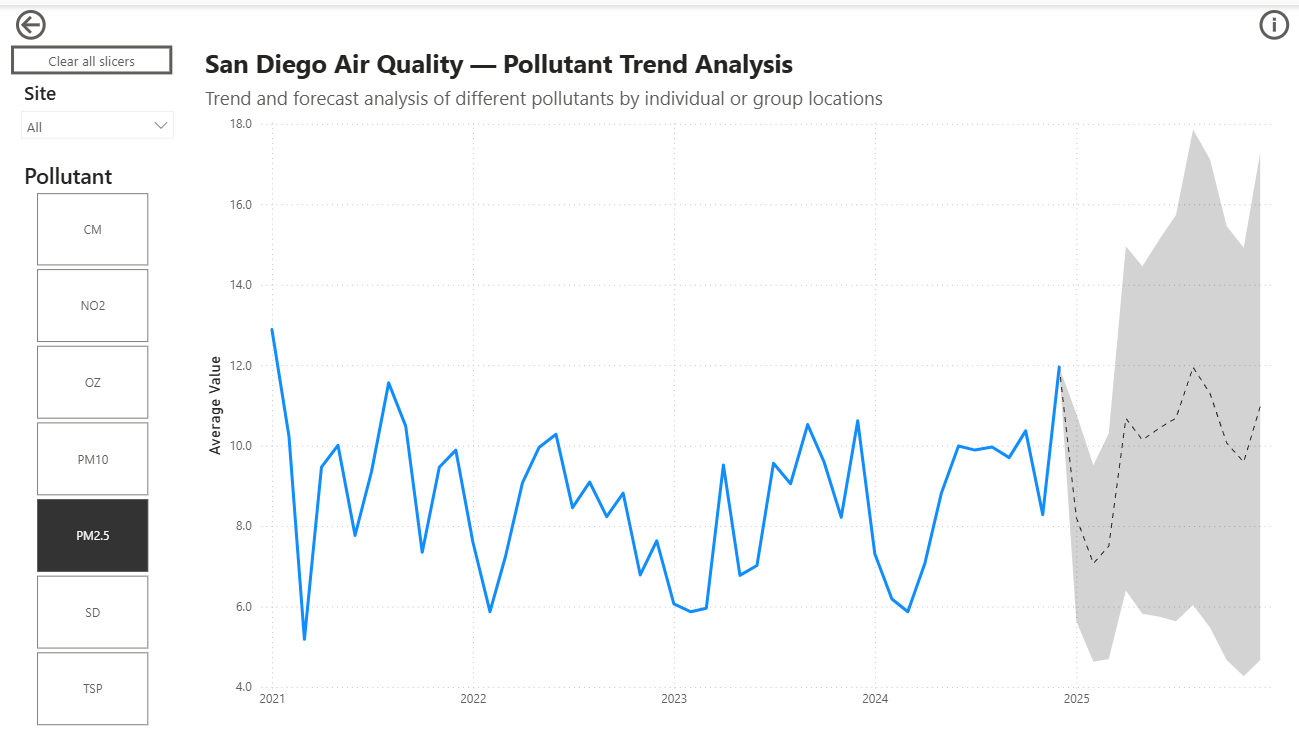

What the dashboard file says about the page in this screenshot:
{"tool":"powerbi","page":{"name":"Trend Analysis","canvas":[1280,720],"ordinal":1},"visuals":[{"type":"lineChart","title":"San Diego Air Quality — Pollutant Trend Analysis","fields":{"Y":["Avg(Air Quality Unpivoted.Value)"],"Category":["Air Quality Unpivoted.date.Variation.Date Hierarchy.Year","Air Quality Unpivoted.date.Variation.Date Hierarchy.Quarter","Air Quality Unpivoted.date.Variation.Date Hierarchy.Month","Air Quality Unpivoted.date.Variation.Date Hierarchy.Day"]},"box":[186.8,39.7,1069.1,666.2],"z":0},{"type":"actionButton","box":[1232.7,0,47.3,39.4],"z":1000},{"type":"slicer","fields":{"Values":["Air Quality Unpivoted.Pollutant"]},"box":[0,148.5,160.3,572.1],"z":2000},{"type":"actionButton","box":[0,0,48.6,39.4],"z":3000},{"type":"slicer","fields":{"Values":["Air Quality Unpivoted.site_number"]},"box":[0,68.8,171.2,80],"z":4000},{"type":"actionButton","box":[0,40,160,28.8],"z":5000}]}

Visuals, with their boxes in screenshot pixels (x1, y1, x2, y2), scaled from the page's 1280x720 canvas onto the 1299x730 screenshot:
"San Diego Air Quality — Pollutant Trend Analysis" lineChart: crop(190, 40, 1275, 716)
actionButton: crop(1251, 0, 1298, 40)
slicer - Air Quality Unpivoted.Pollutant: crop(0, 151, 163, 729)
actionButton: crop(0, 0, 49, 40)
slicer - Air Quality Unpivoted.site_number: crop(0, 70, 174, 151)
actionButton: crop(0, 41, 162, 70)
